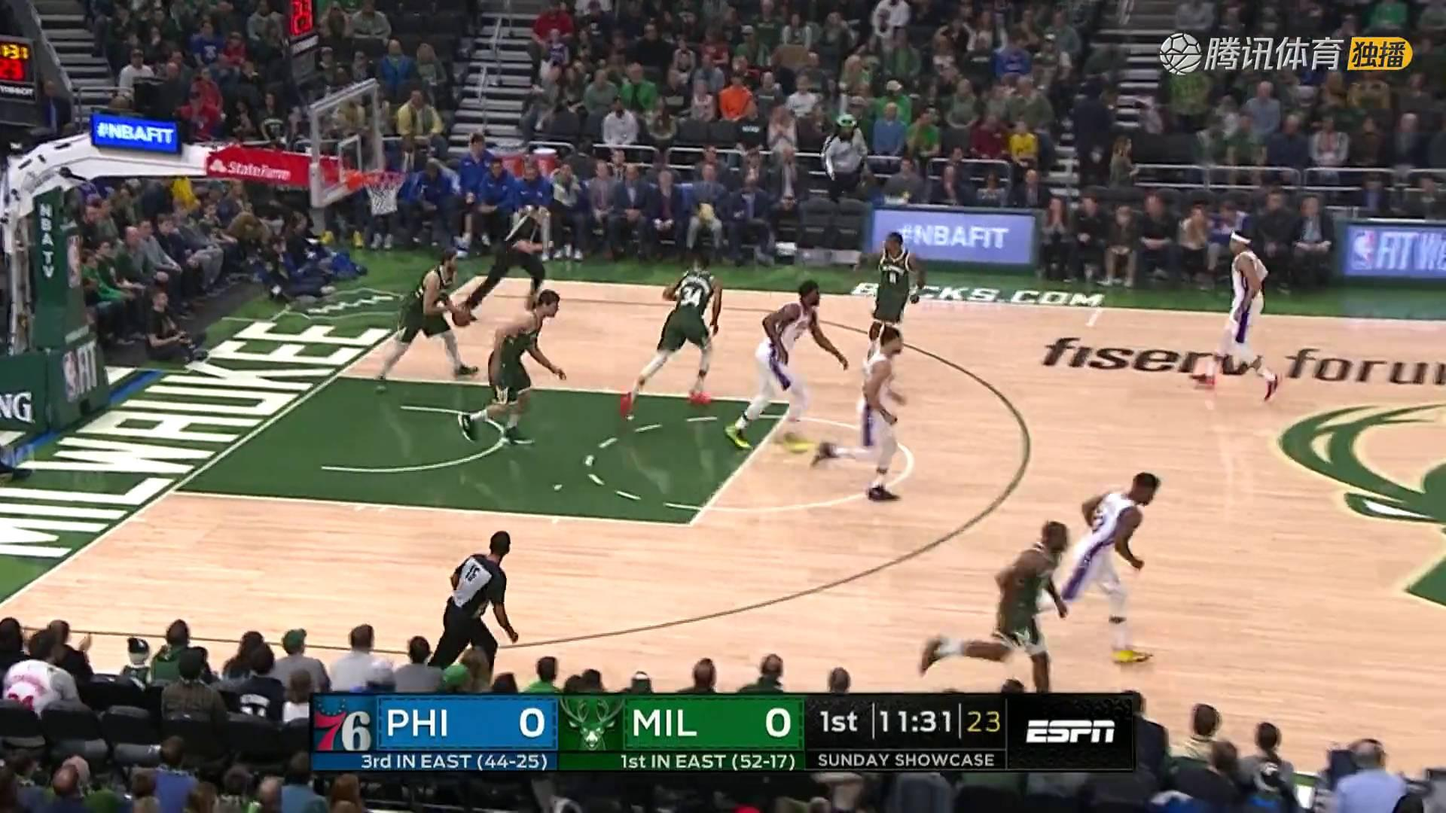basketball: (452, 304, 472, 325)
